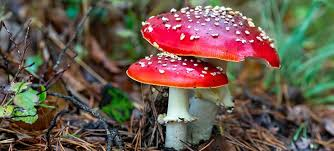Amanita muscaria: (140, 0, 288, 141), (119, 48, 228, 146)
